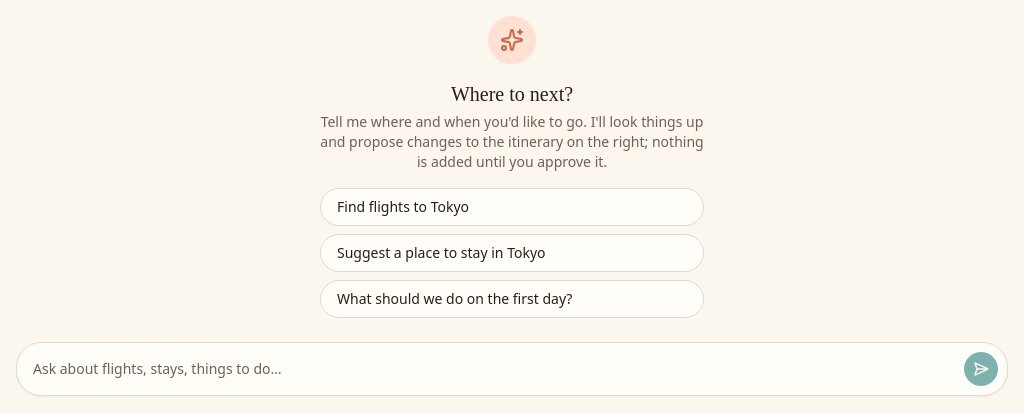
Test: ChatPanel › offers suggestions on an empty chat and sends the one picked
What coordinates should you click on to do the following:
click the button "Find flights to Tokyo"
I would click on:
 (403, 206)
Its box is [320,188,704,226].
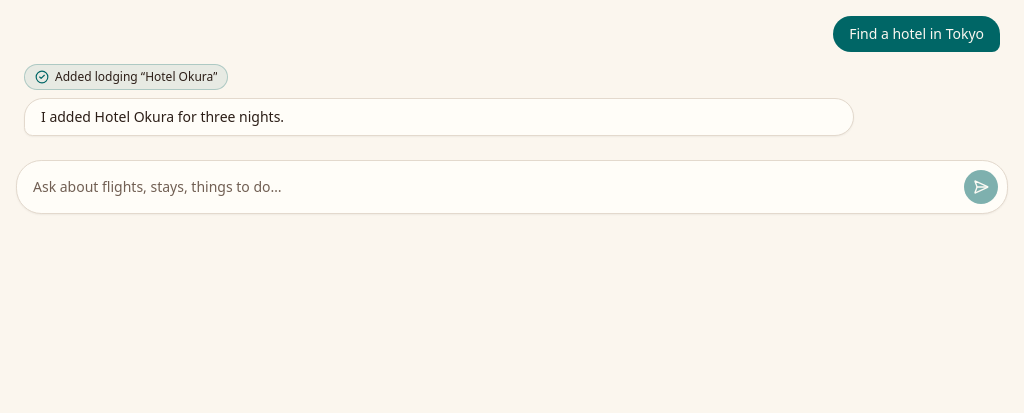
Check: the text "I added Hotel Okura for three nights." is shown, box [41,107,284,126]
